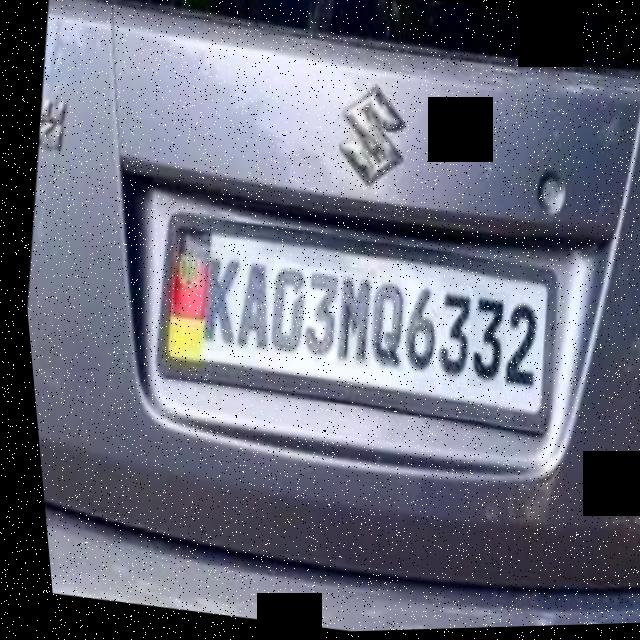0: (254, 252, 311, 361)
3: (452, 291, 510, 395), (289, 261, 345, 364), (422, 285, 476, 382)
6: (387, 281, 444, 382)
A: (223, 253, 278, 359)
K: (187, 249, 242, 354)
M: (320, 266, 379, 374)
Q: (352, 271, 409, 379)
